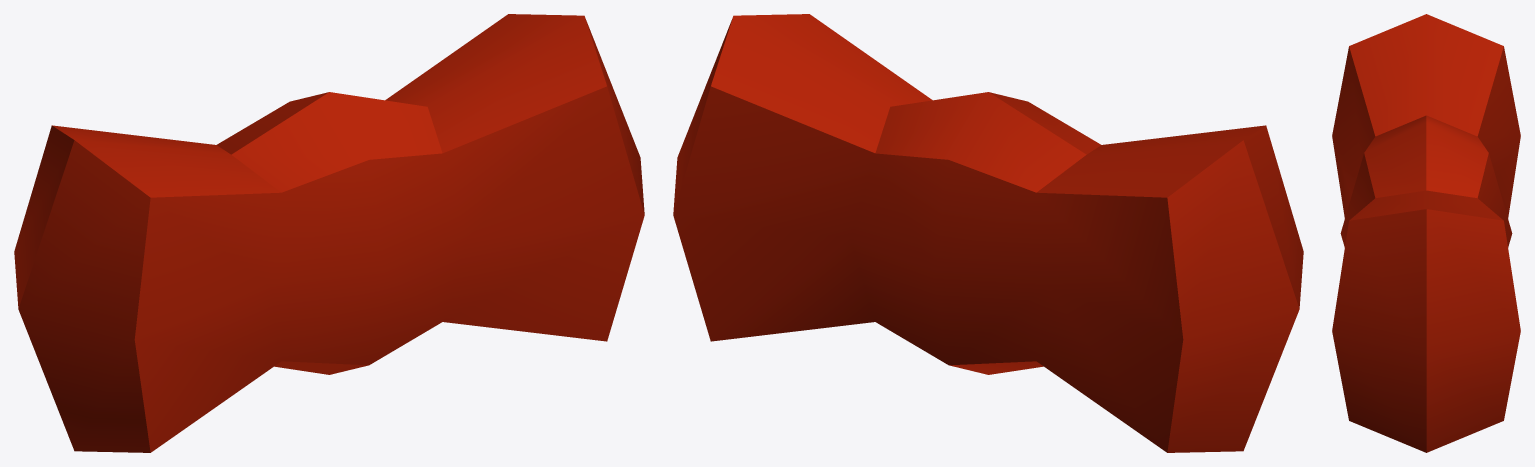
File: Body_Prop_Cooking_Bow_Tie_01.fbx
3 renders of one model, left to right at view 1: azimuth 30°, elevation 25°; view 2: azimuth 150°, elevation 25°; view 3: azimuth 270°, elevation 25°, orthographic. The views are drawn at different scales.
Visible parts, largest first — view 1: Body_Prop_Cooking_Bow_Tie_01; view 2: Body_Prop_Cooking_Bow_Tie_01; view 3: Body_Prop_Cooking_Bow_Tie_01.
Part boxes in pixels (x1,y1,x2,y2): Body_Prop_Cooking_Bow_Tie_01: [14, 14, 644, 452]; Body_Prop_Cooking_Bow_Tie_01: [673, 14, 1303, 452]; Body_Prop_Cooking_Bow_Tie_01: [1332, 14, 1520, 452].
Bounding box in the file's own units: 41.68 × 19.92 × 13.98.
